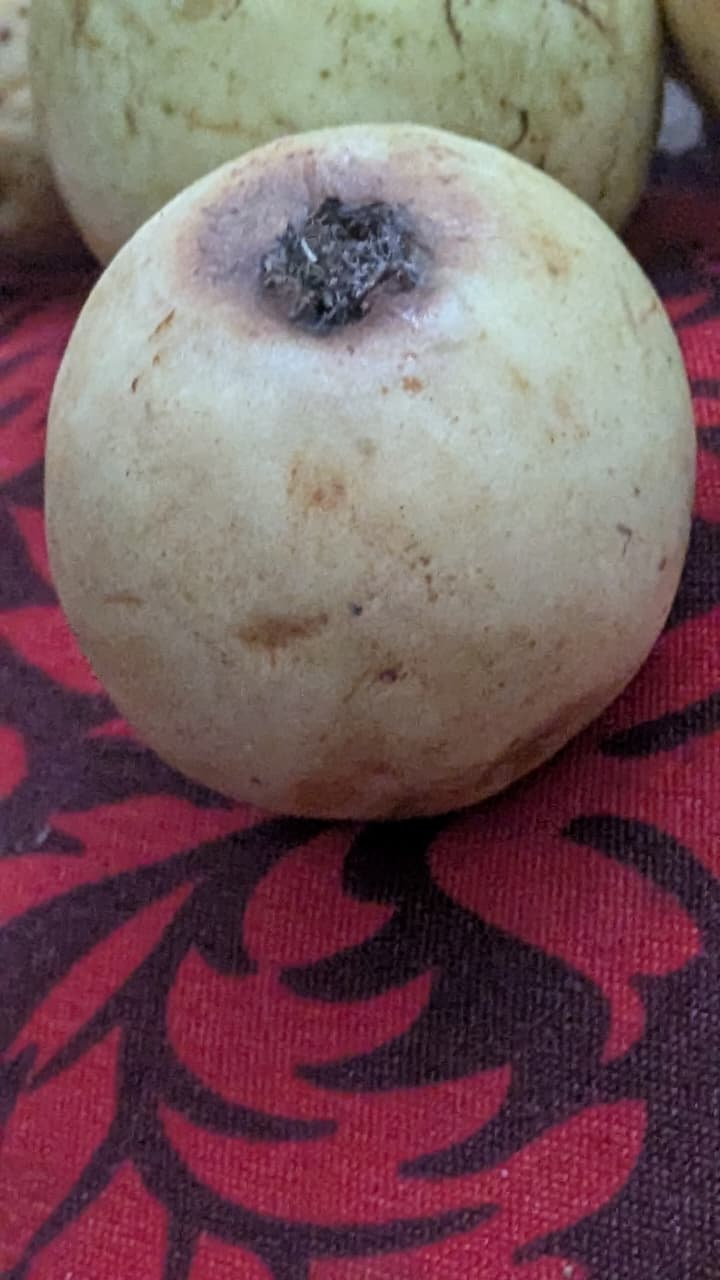guava: (187, 0, 664, 1103)
